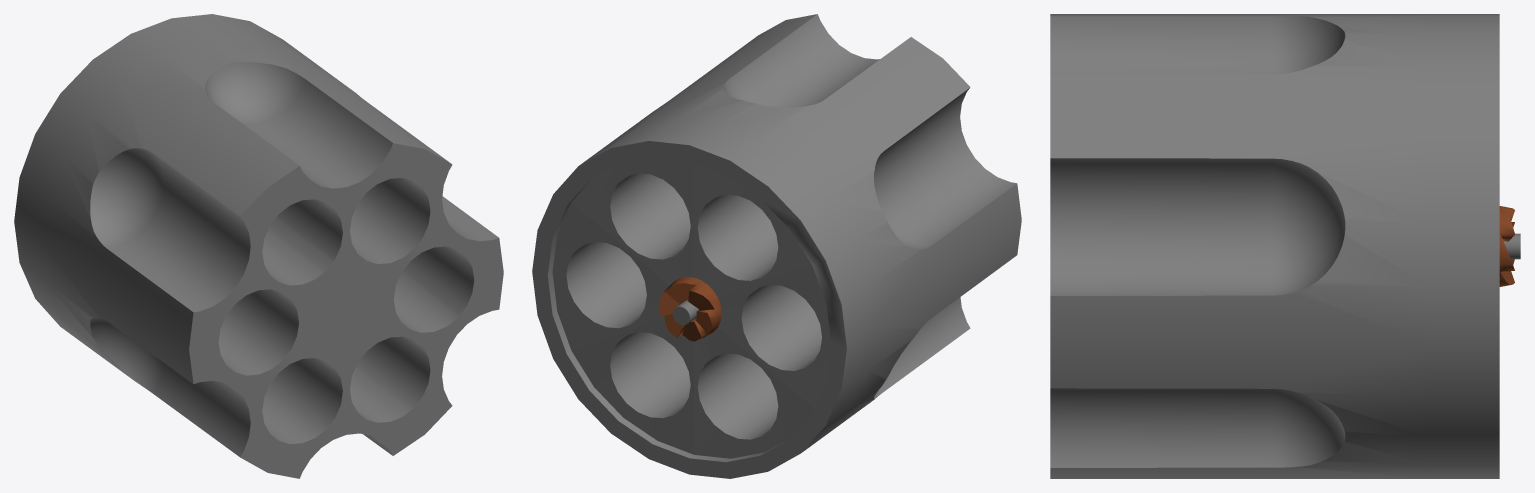
File: revolver-drum-obj.obj
The picture shows the model from 3 angles, left to right: view 1: azimuth 30°, elevation 25°; view 2: azimuth 150°, elevation 25°; view 3: azimuth 270°, elevation 25°; orthographic projection. The views are drawn at different scales.
Parts seen in each view (by area): view 1: pCylinder65; view 2: pCylinder65; view 3: pCylinder65.
Part boxes in pixels (x1,y1,x2,y2): pCylinder65: (14,14,503,478); pCylinder65: (532,14,1021,478); pCylinder65: (1050,14,1520,478).
Size of the model in its own units: 2.07 by 2.07 by 2.08.
